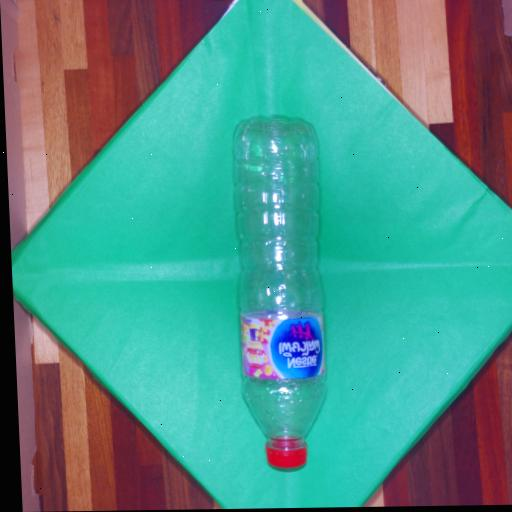bottle: (234, 120, 324, 467)
